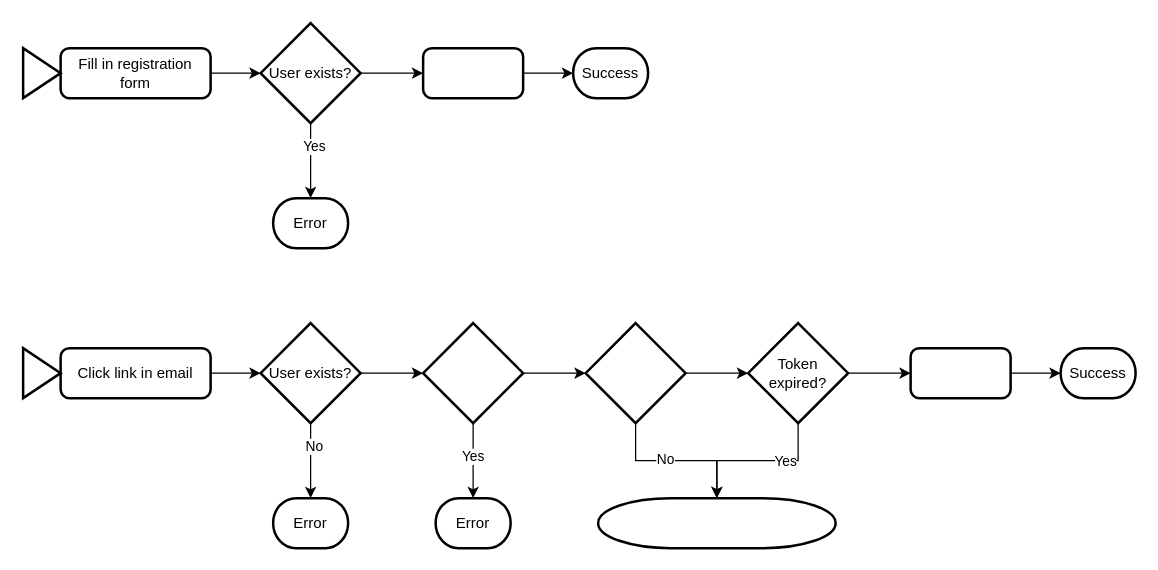
Some shapes in this 1158 by 570 pixel diagram are drawn without their labels. Here are the shapes that lost their labels. From the top down, the box of each, then its label:
(421, 46, 524, 99): Send email
(421, 321, 524, 424): Email validated?
(584, 321, 686, 424): Token ok?
(909, 346, 1011, 399): Validate email
(596, 496, 836, 549): Give user a new link
